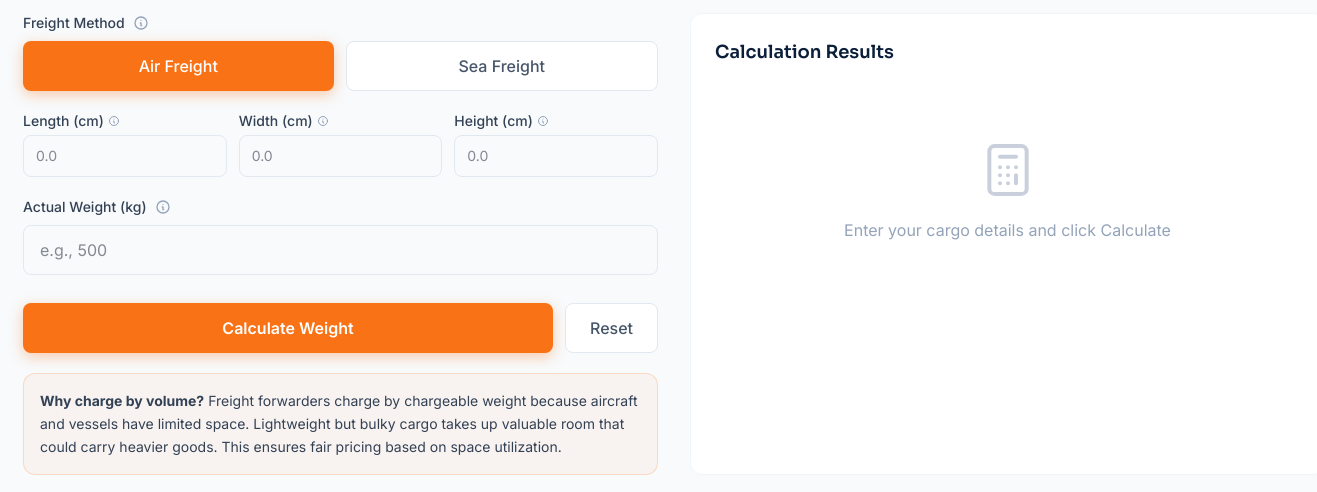
Test: ChargeableWeightCalculator › calculates dimensional weight for sea freight
This screenshot has width=1317, height=492.
Click the button "Sea Freight".
click(502, 66)  # box [346,41,658,91]
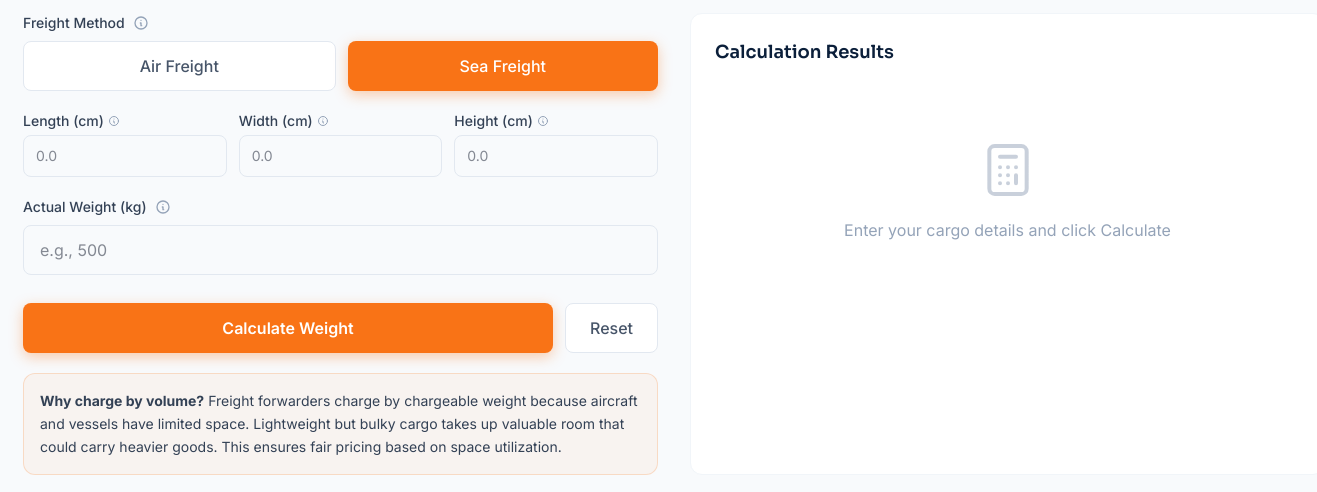
Type "100" into the number field named "length in centimeters".
click(125, 156); type("100")  # box [23,135,227,177]
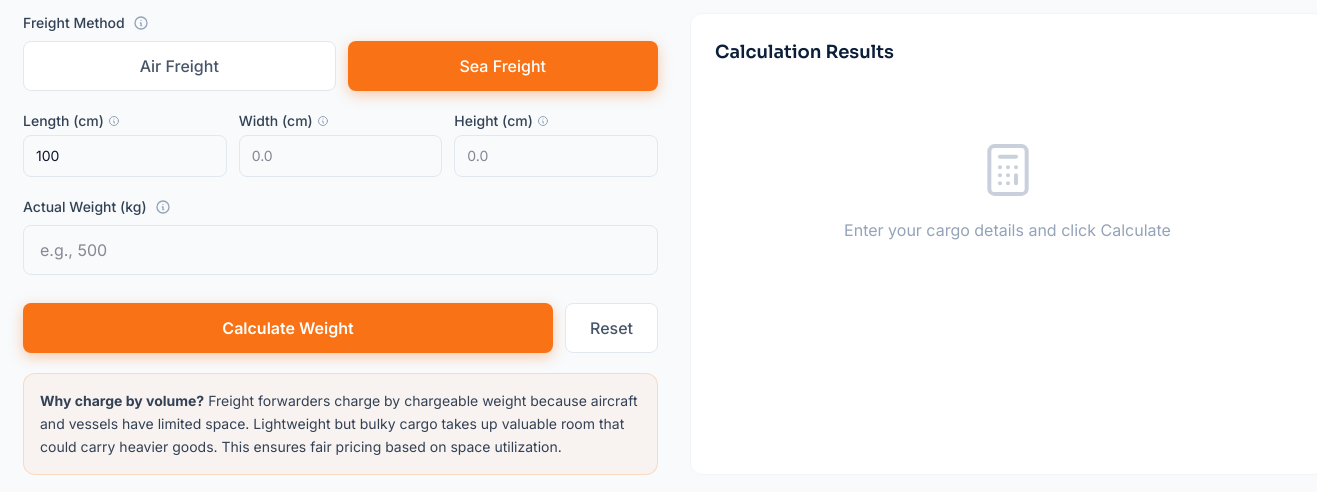
Type "100" into the number field named "width in centimeters".
click(341, 156); type("100")  # box [239,135,442,177]
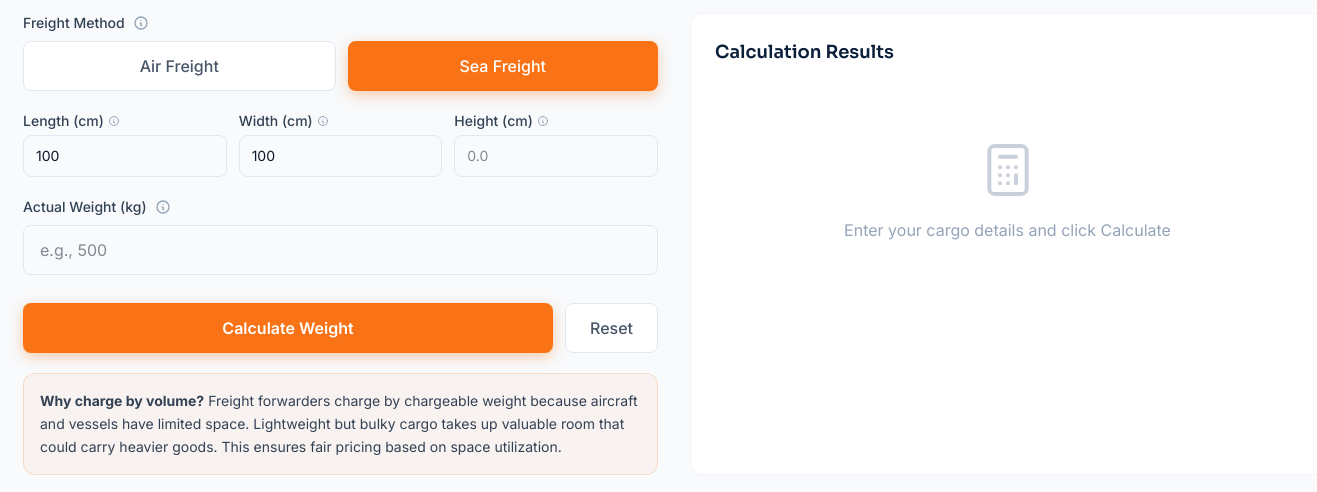
Type "100" into the number field named "height in centimeters".
click(556, 156); type("100")  # box [454,135,658,177]
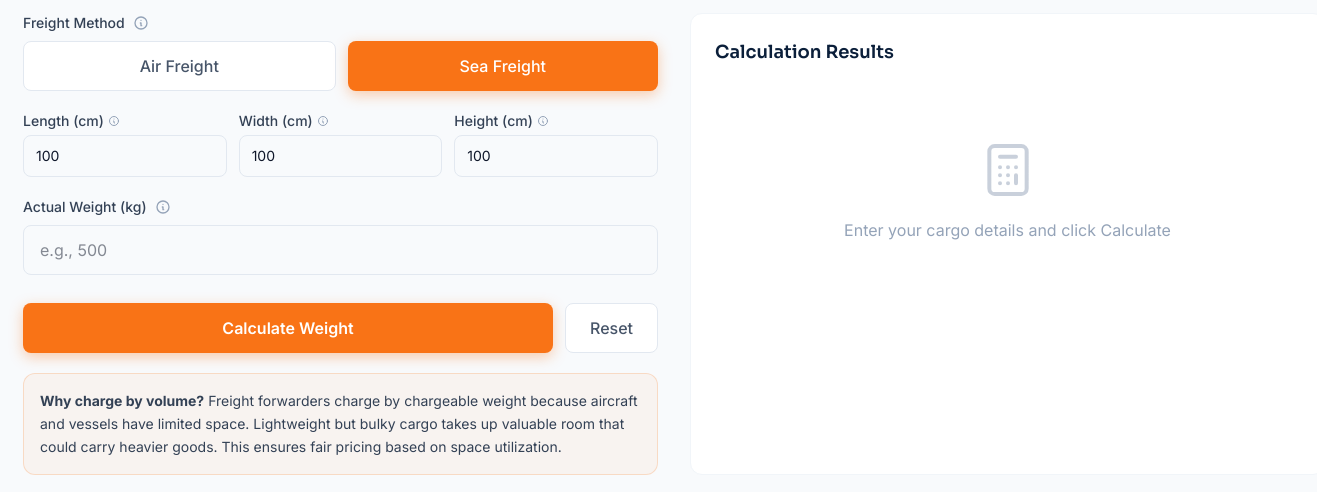
Type "500" into the number field named "actual weight in kilograms".
click(340, 250); type("500")  # box [23,225,658,275]
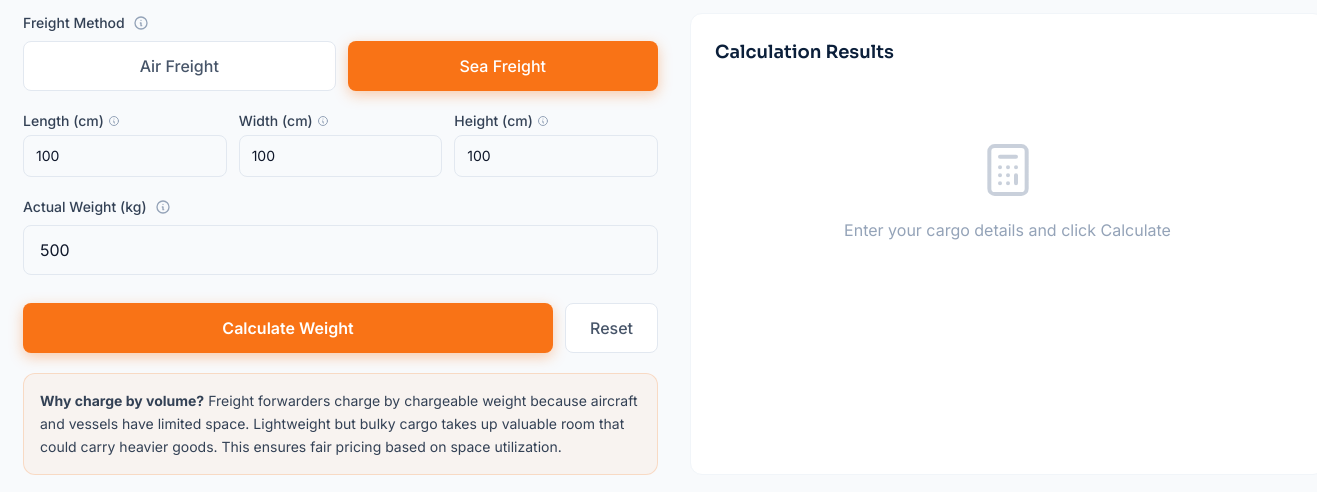
Click the button "Calculate Weight".
click(288, 328)  # box [23,303,553,353]
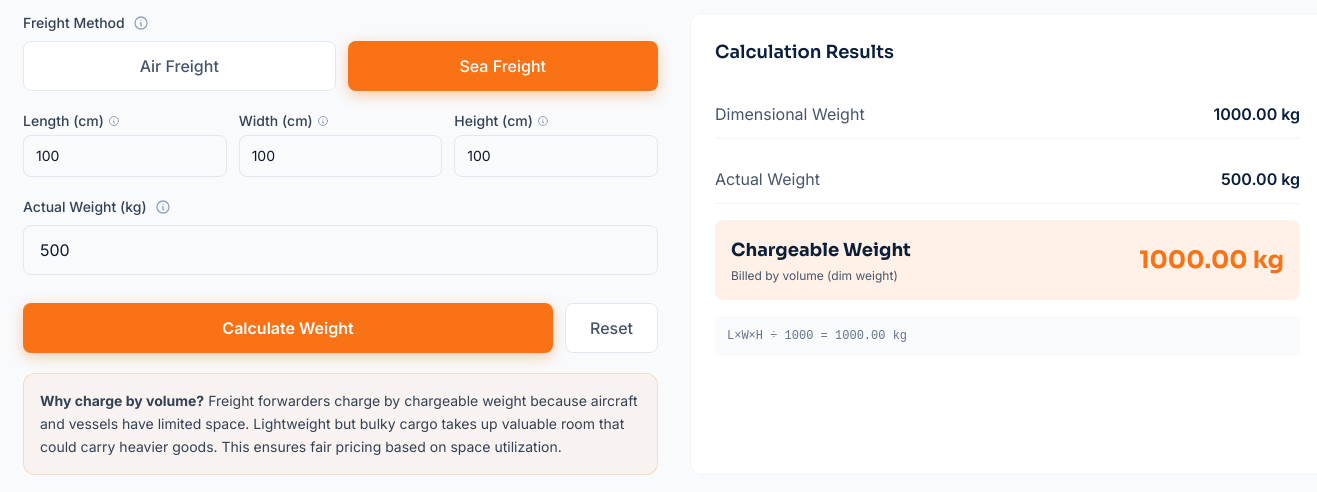
Expected: the text "Billed by volume (dim weight)" is shown, [731,268,911,284]
